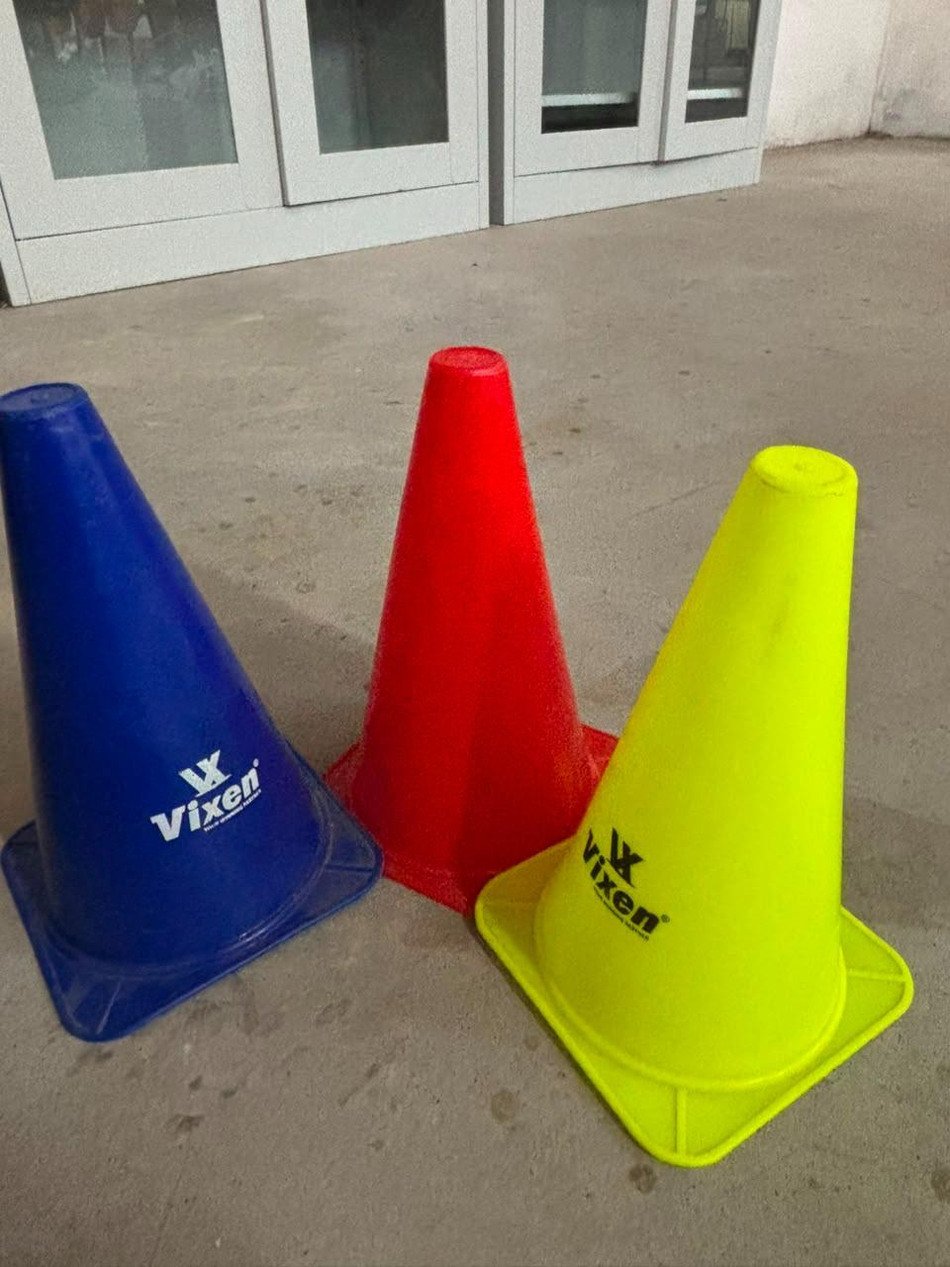0 cone: (0, 347, 912, 1166)
